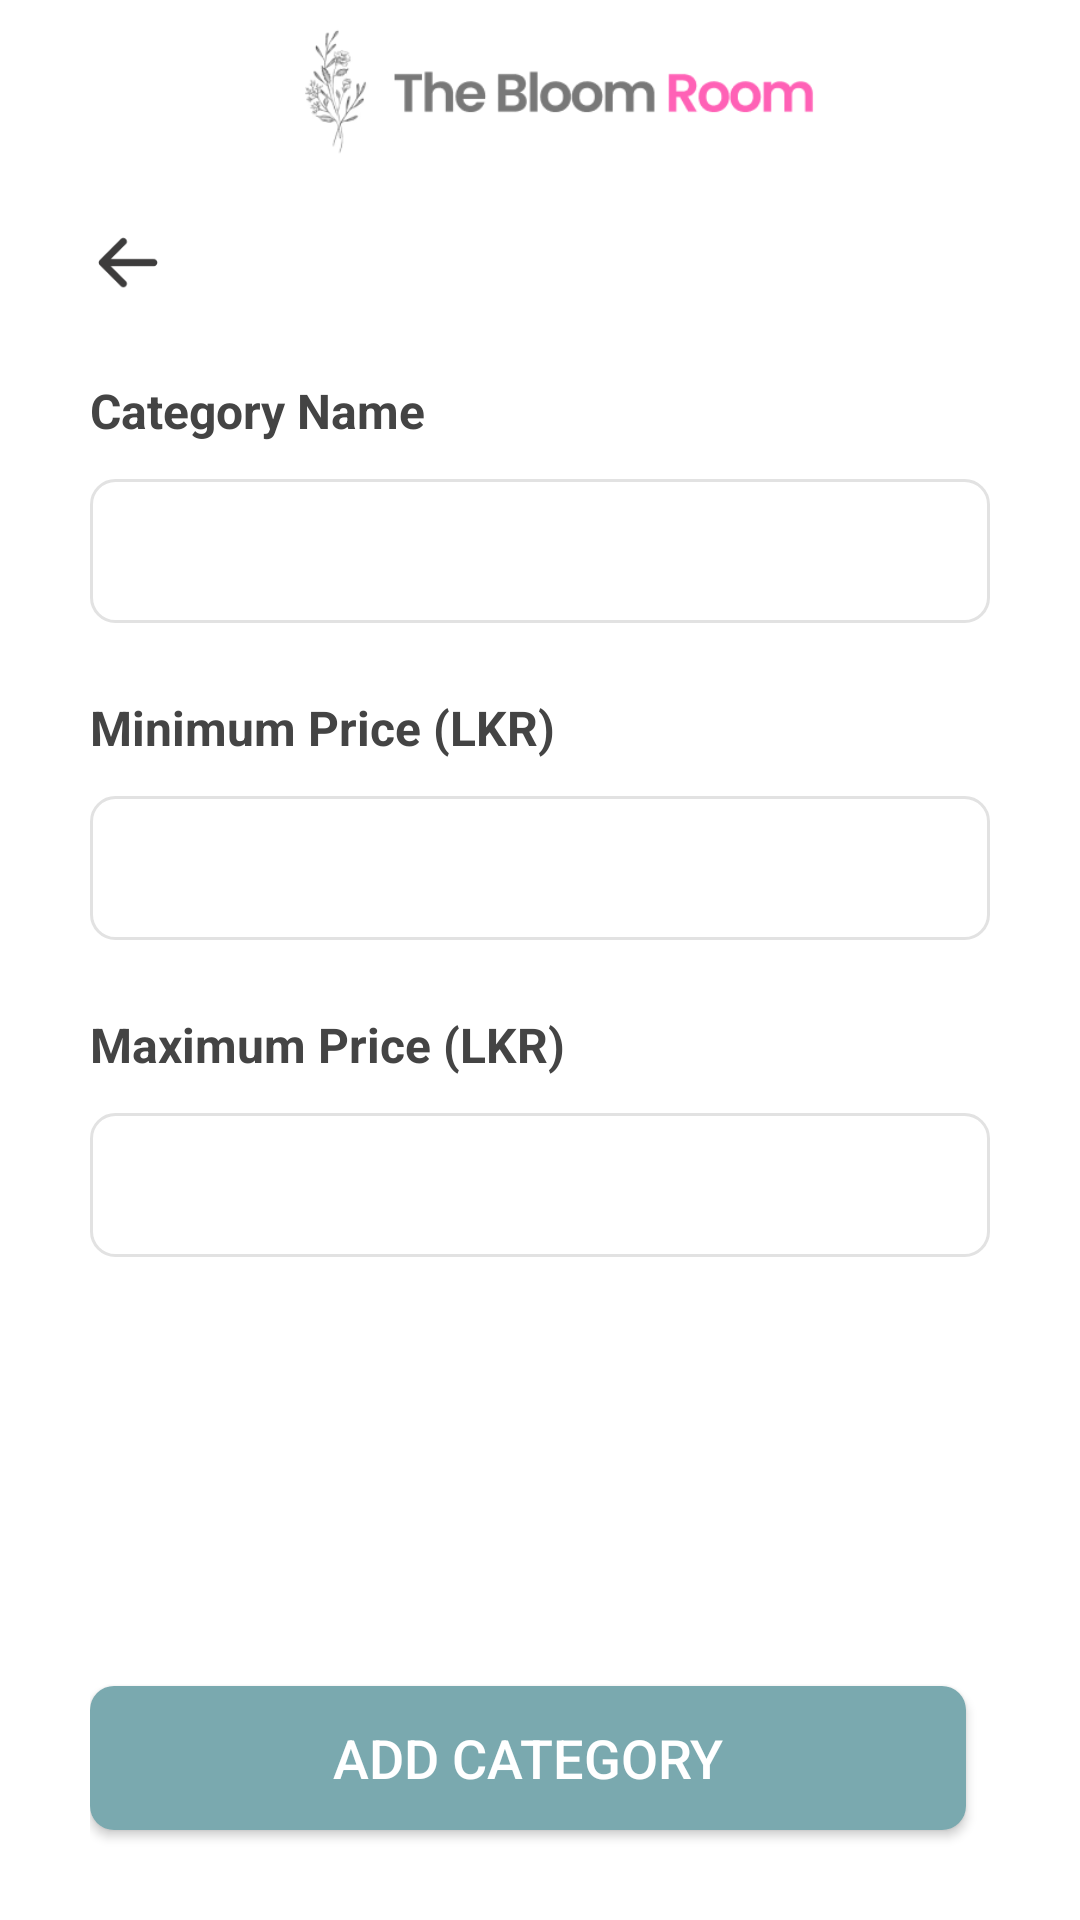

Icon bounding boxes for this 1080 × 1920 phone screenshot, format [x1=x1, y1=y1, x2=x2, y2=y2]:
back: [x1=98, y1=237, x2=158, y2=288]
